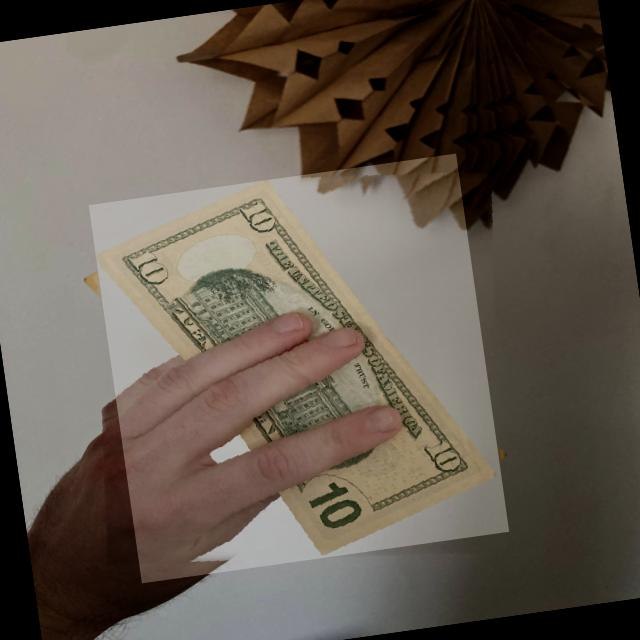ten: (88, 145, 502, 596)
